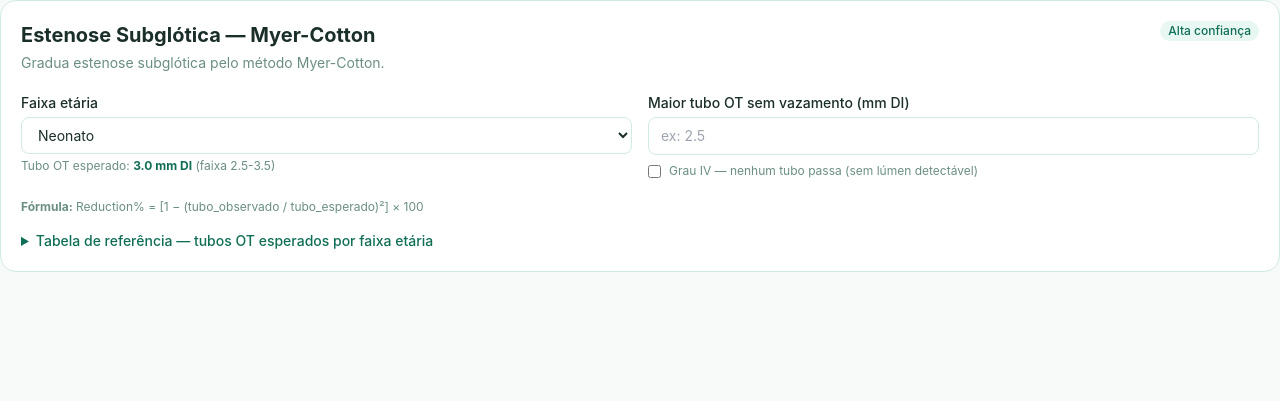
Test: MyCottonCalculator — interação › inserir tubo observado exibe resultado
Select "Pre-escolar" in the dropdown labelled "Faixa etária Tubo OT esperado: 3.0 mm DI (faixa 2.5-3.5)" at (326, 136), box [21,117,632,154]
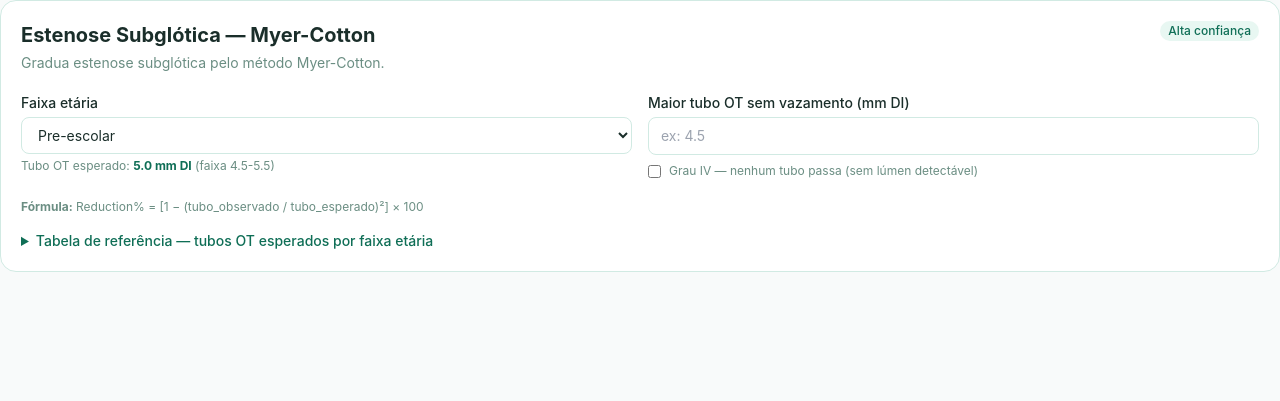
Type "3.0" into the number field labelled "Maior tubo" at (954, 136), box [648,117,1259,155]
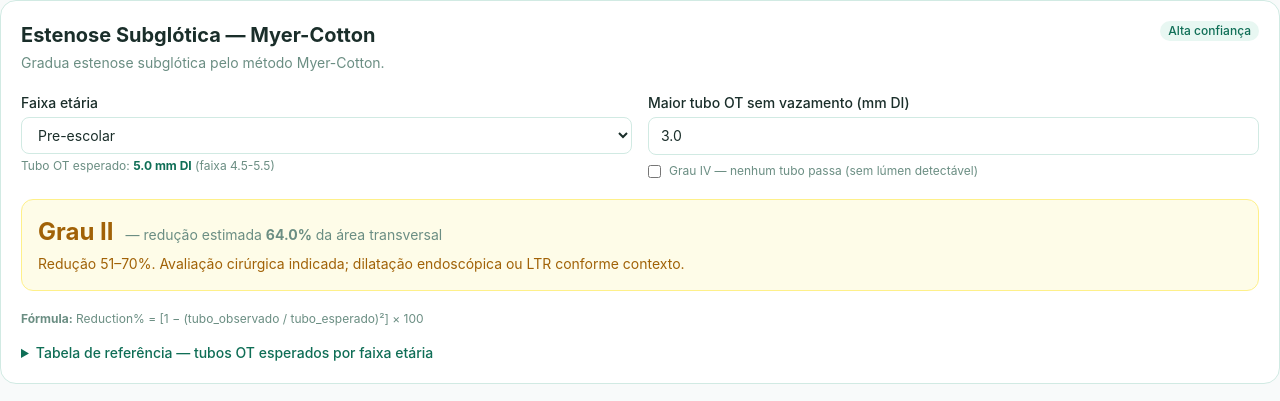
Expected: the message with test id "myer-cotton-result" is shown, [21,199,1259,291]
Expected: the message with test id "myer-cotton-result" shows "Grau II", [38,217,114,246]
